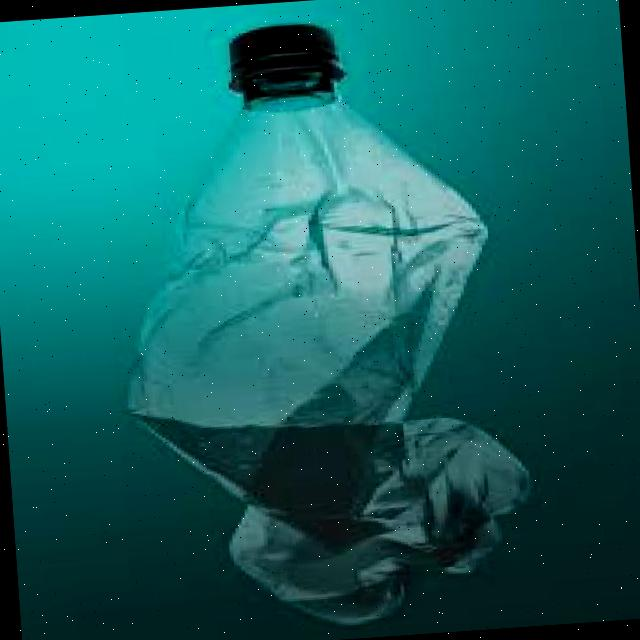bottle: (90, 8, 559, 640)
cap: (224, 28, 358, 112)
